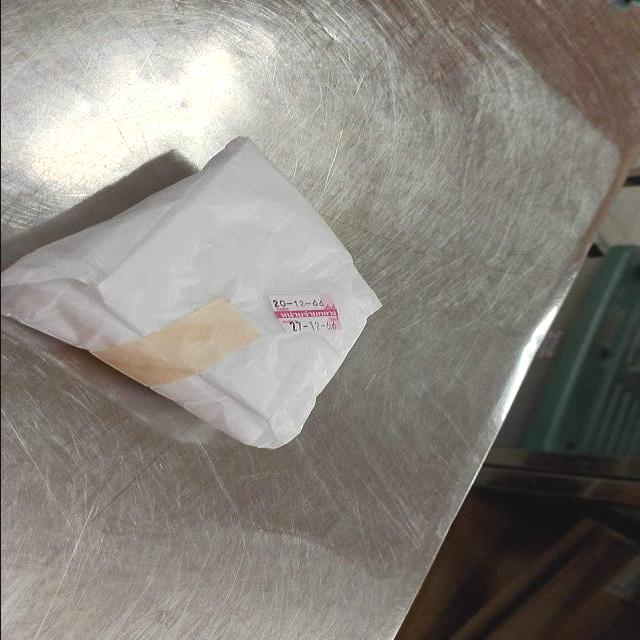General: (3, 1, 639, 637), (2, 133, 384, 451)
